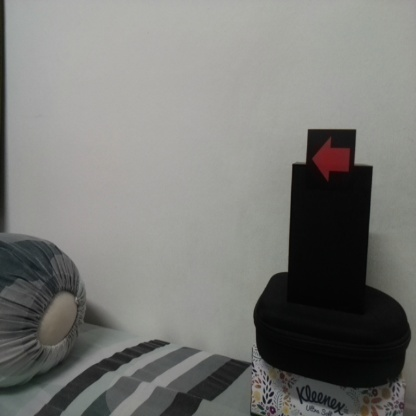id_4: (307, 130, 356, 190)
